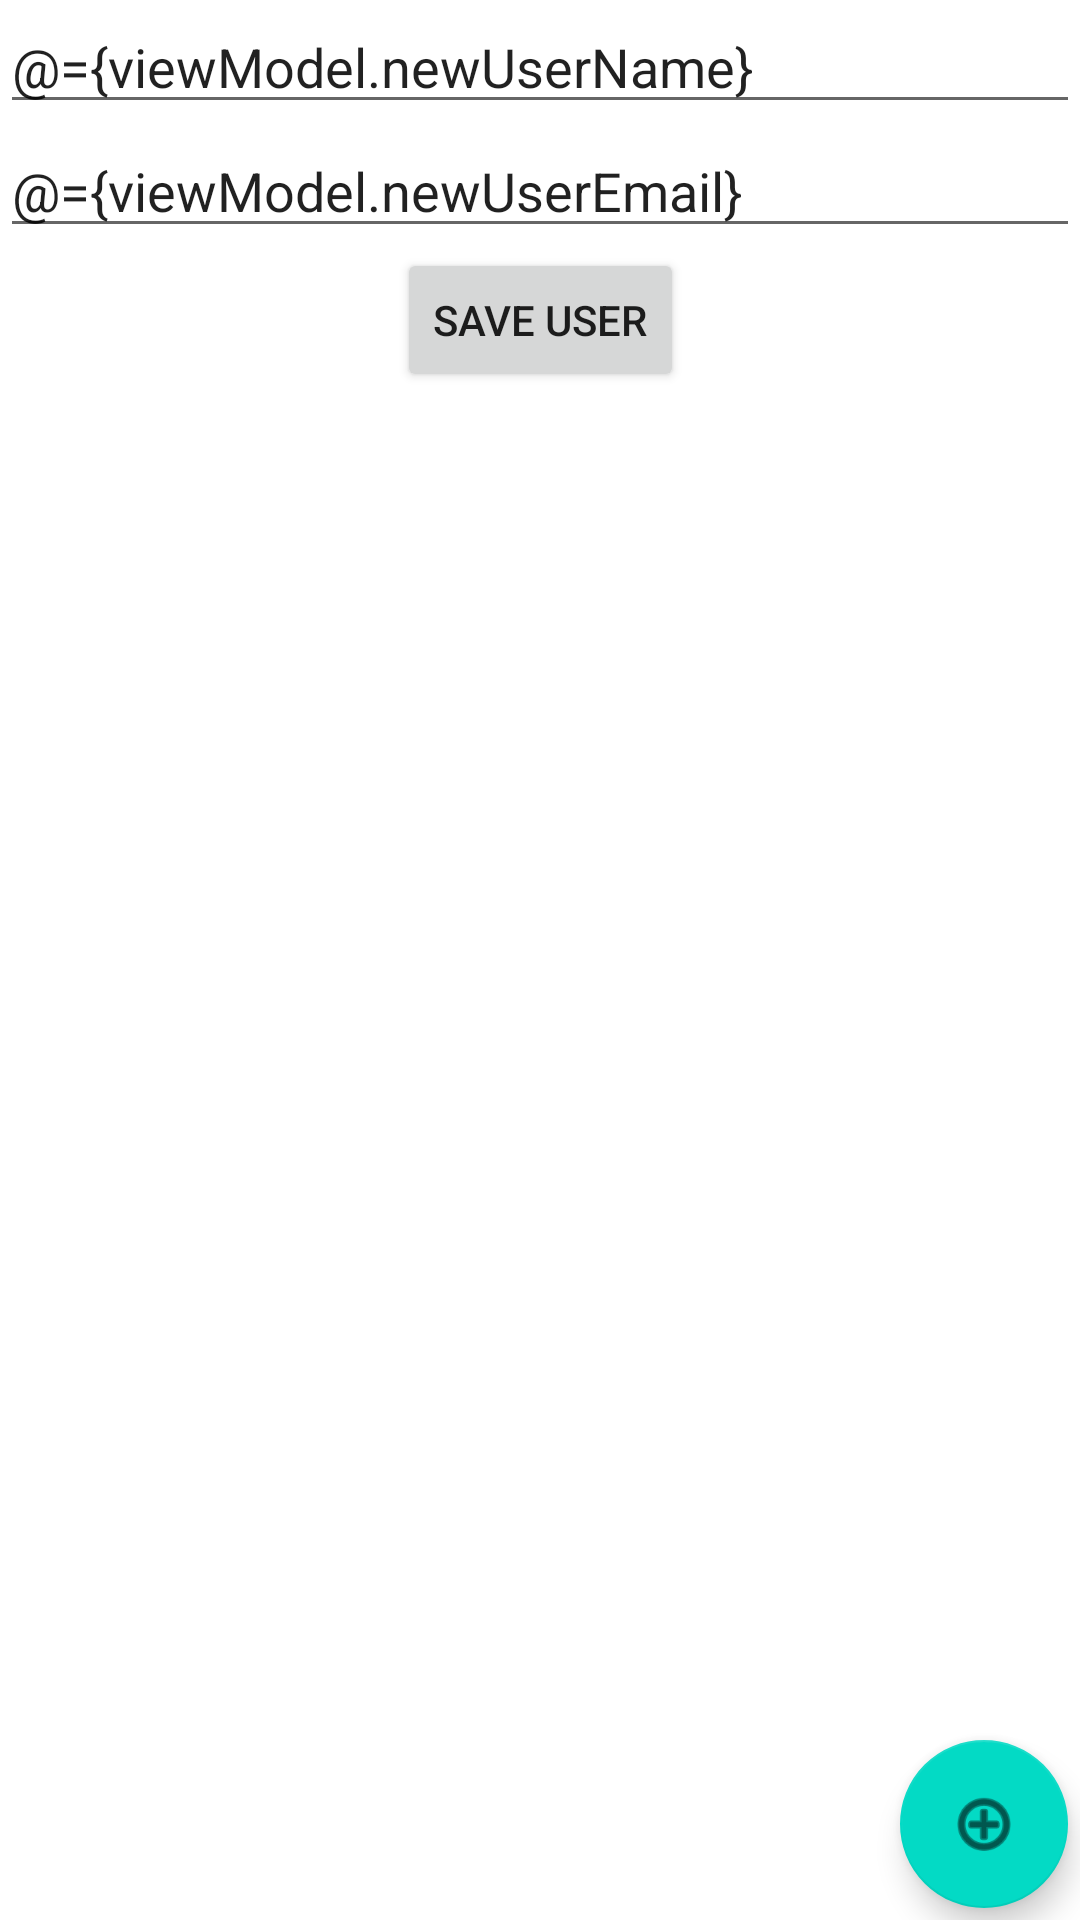

Named icons in this screenshot (1080px×1920px) and their centers, [x,y]:
add: [984,1824]
